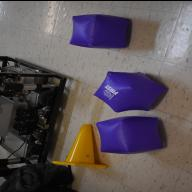cone: (51, 123, 108, 168)
cube: (92, 70, 166, 112), (96, 114, 164, 154), (69, 13, 131, 48)
